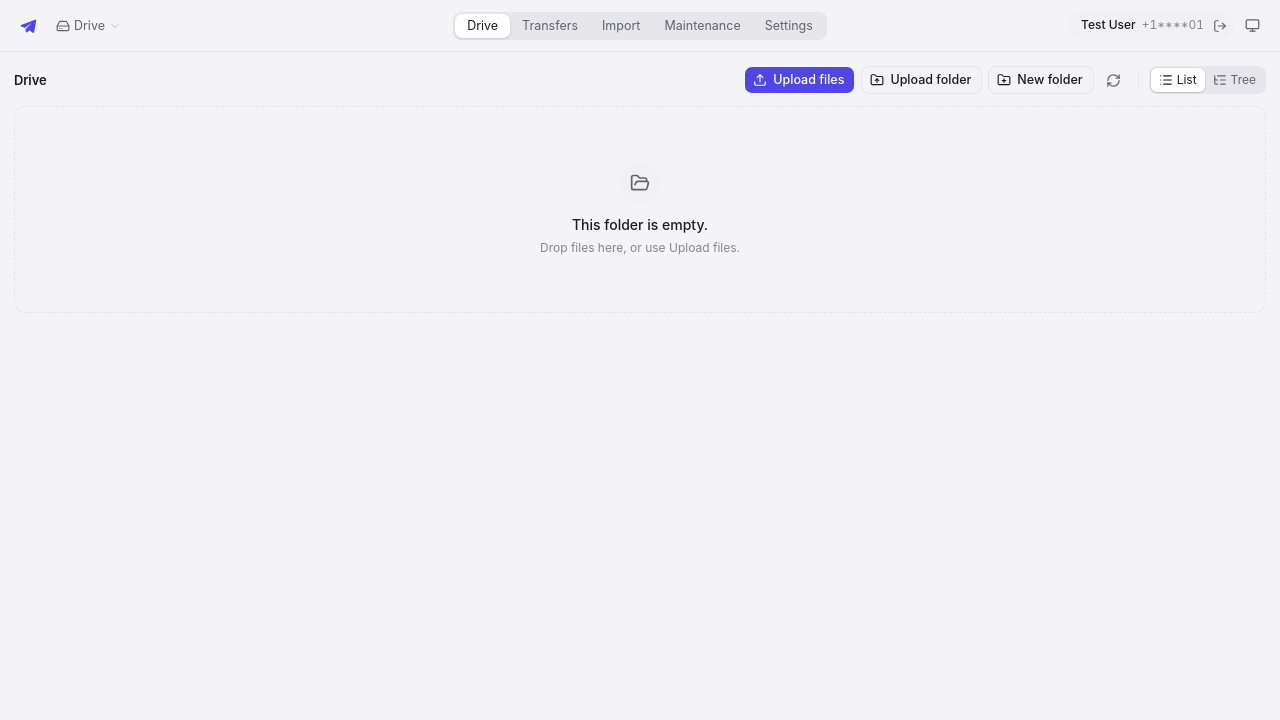
a captions dry run renders its counters and per-item rows
This screenshot has width=1280, height=720.
Expected: the tab "Drive" is shown, [455,14,510,38]
Press the mouse on the tab "Maintenance" at (703, 26), box [652,14,753,38]
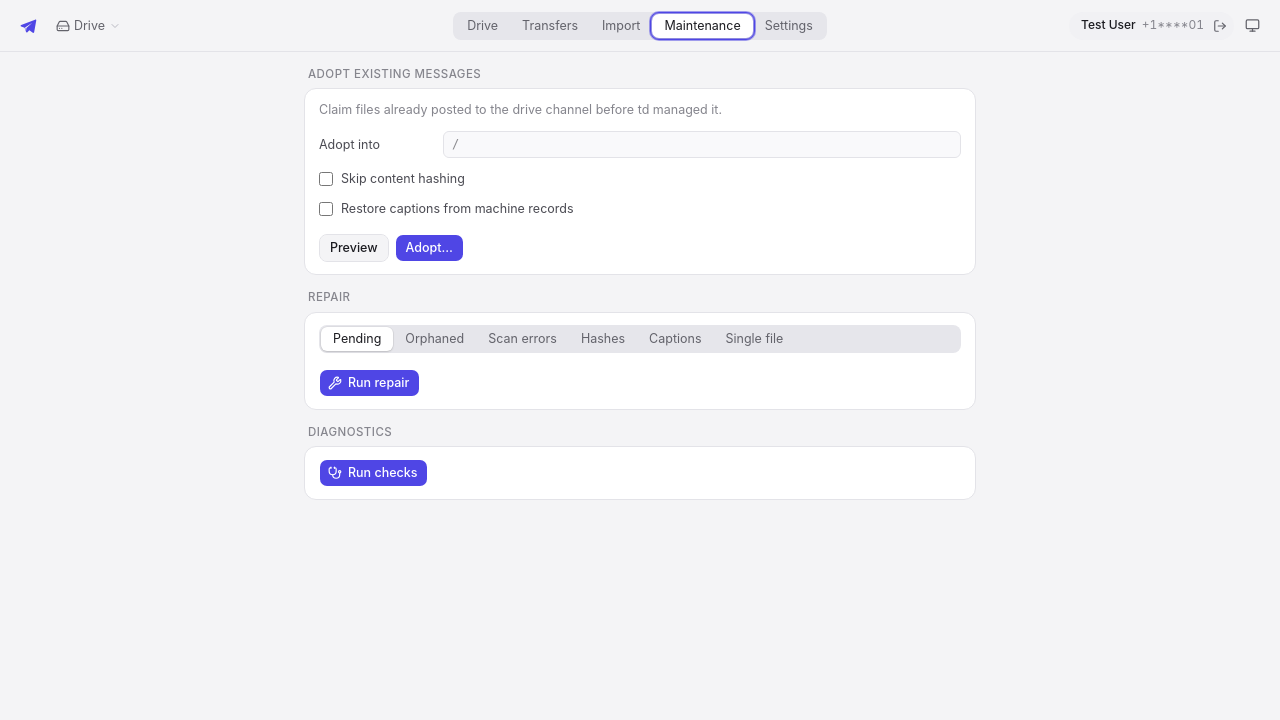
Expected: the heading "Adopt existing messages" is shown, [308,67,481,81]
Click the button "Captions" at (675, 338), box [637,326,714,350]
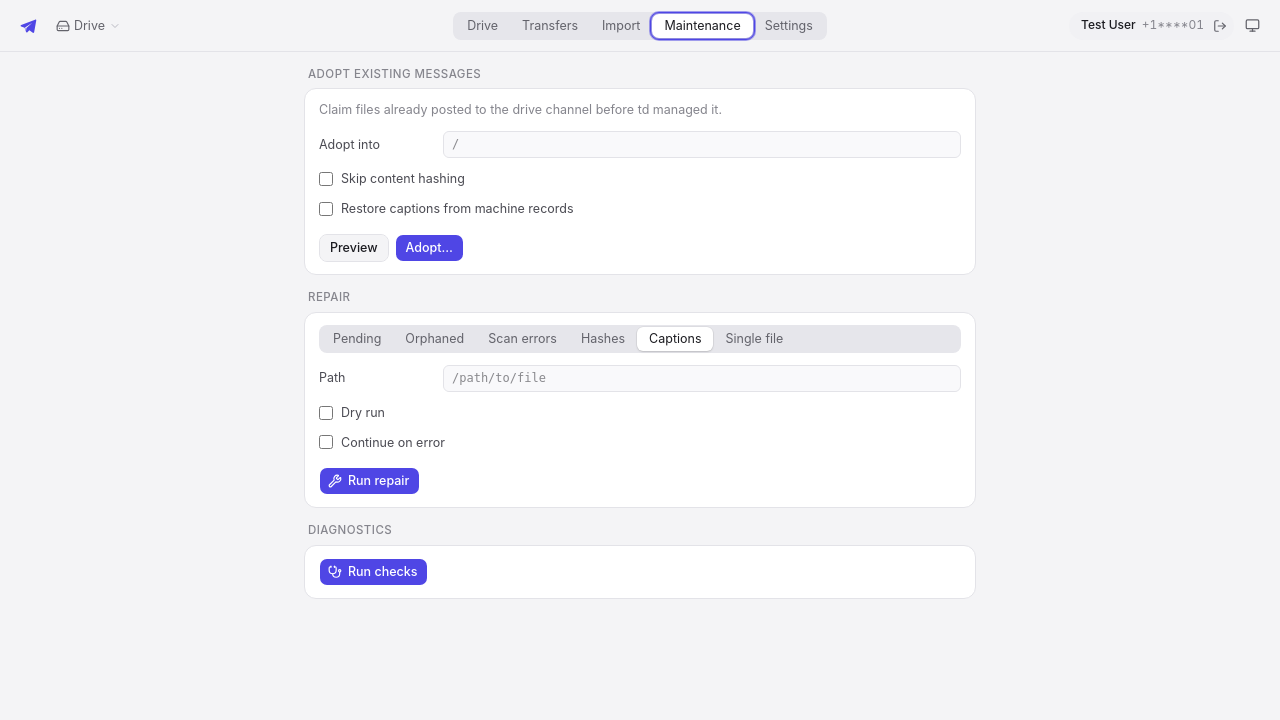
Click the checkbox labelled "Dry run" at (326, 413), box [319,406,333,420]
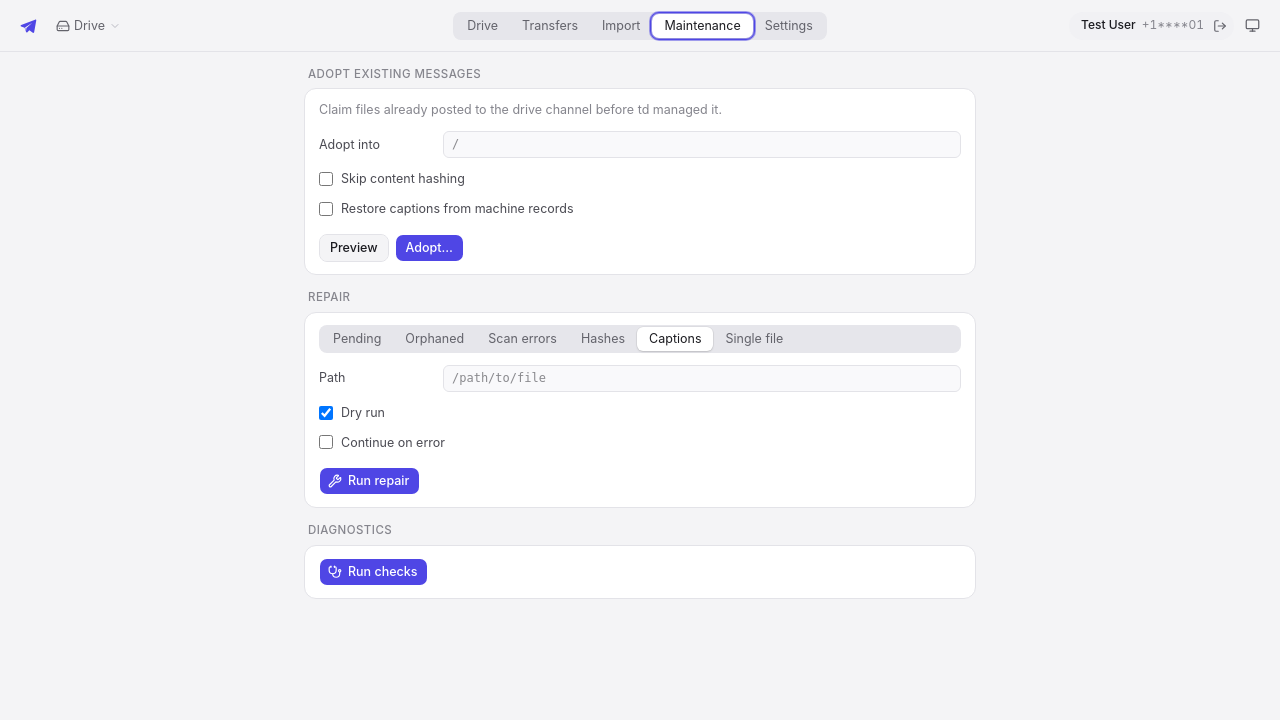
Click the button "Run repair" at (370, 481), box [319,467,420,495]
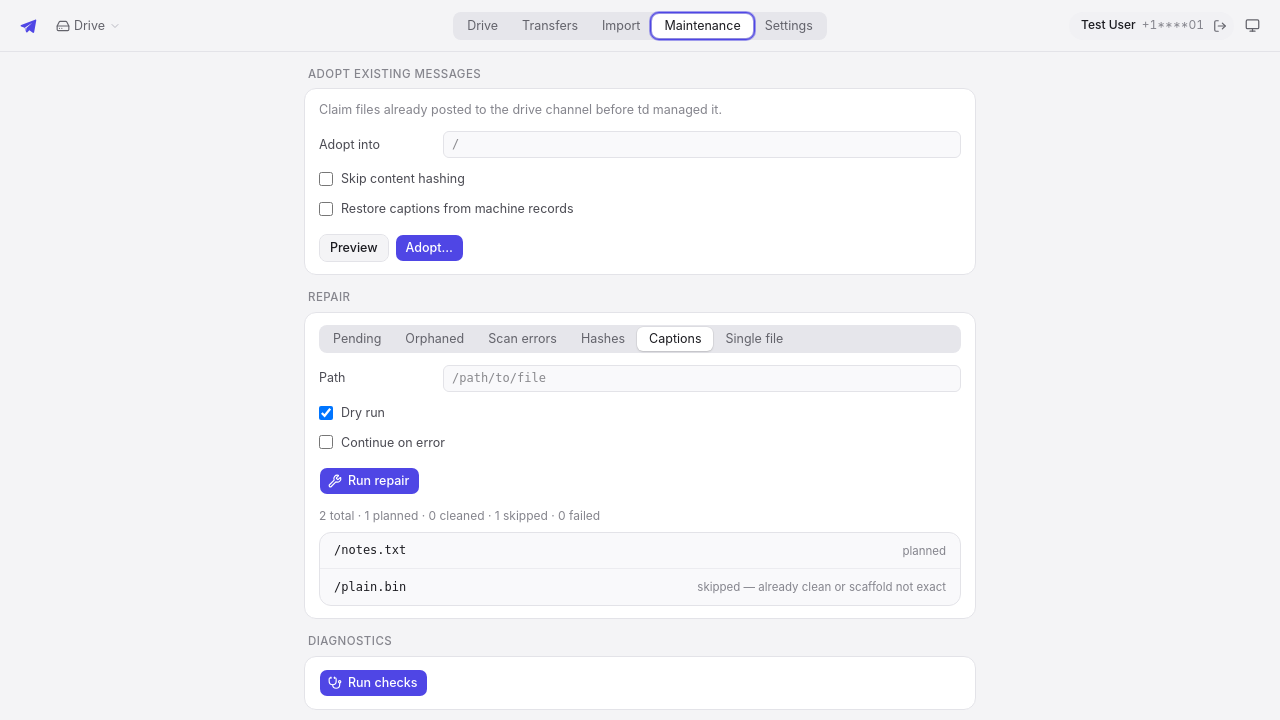
Expected: the text "2 total · 1 planned · 0 cleaned · 1 skipped · 0 failed" is shown, [319,508,600,523]
Expected: the list item "/notes.txt planned" is shown, [320,534,960,570]
Expected: the list item "/plain.bin skipped — already clean or scaffold not exact" is shown, [334,580,946,594]
